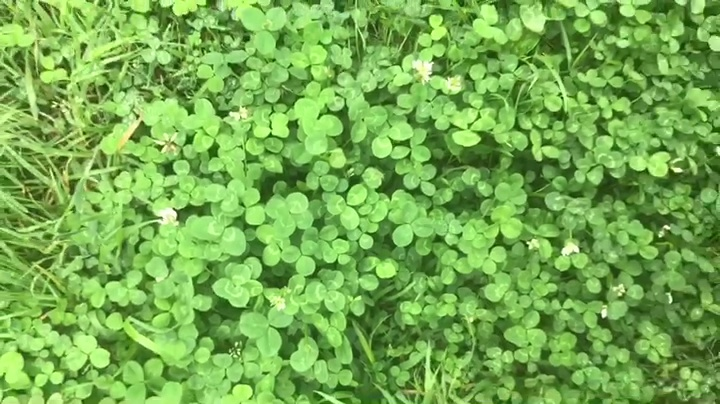4-clover: (267, 193, 311, 238)
